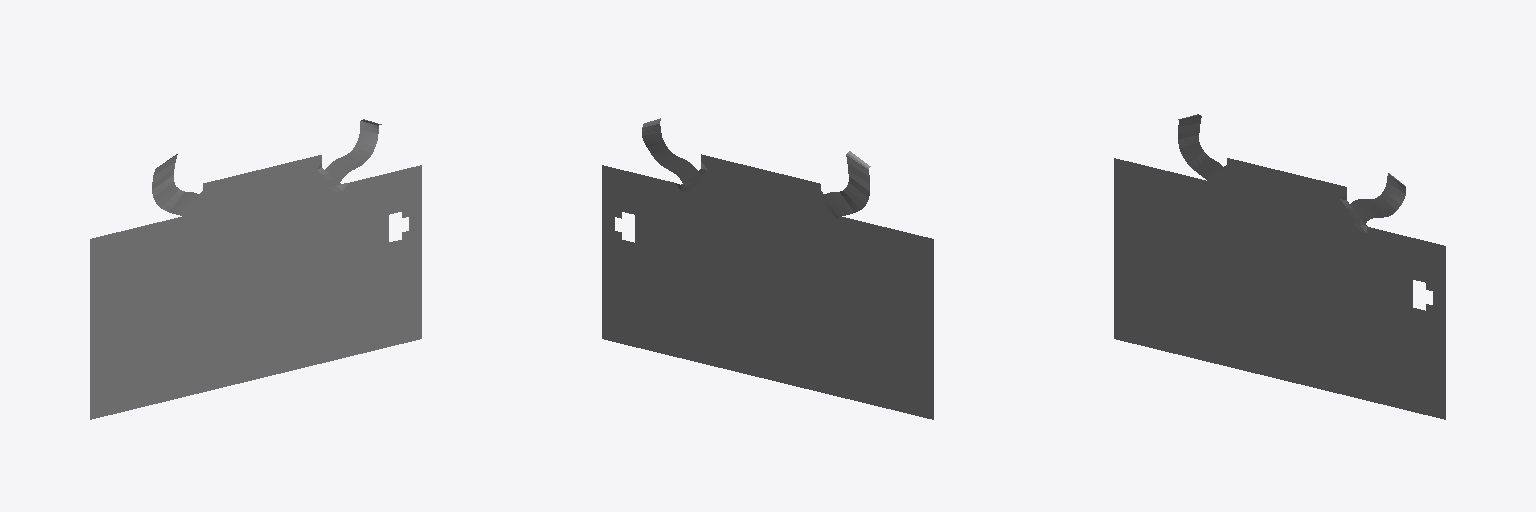
File: Water000.obj
The picture shows the model from 3 angles: view 1: azimuth 30°, elevation 25°; view 2: azimuth 150°, elevation 25°; view 3: azimuth 330°, elevation 25°; orthographic projection.
Visible parts, largest first — view 1: WaterSurface__Water00, WaterRoot00__Water01, WaterRoot01__Water02; view 2: WaterSurface__Water00, WaterRoot00__Water01, WaterRoot01__Water02; view 3: WaterSurface__Water00, WaterRoot00__Water01, WaterRoot01__Water02.
Part boxes in pixels (bbox=[...]): WaterSurface__Water00: bbox=[90, 155, 421, 419]; WaterRoot00__Water01: bbox=[152, 154, 203, 215]; WaterRoot01__Water02: bbox=[325, 119, 381, 191]; WaterSurface__Water00: bbox=[602, 154, 933, 419]; WaterRoot00__Water01: bbox=[819, 151, 870, 218]; WaterRoot01__Water02: bbox=[642, 118, 708, 190]; WaterSurface__Water00: bbox=[1114, 158, 1445, 419]; WaterRoot00__Water01: bbox=[1178, 114, 1228, 179]; WaterRoot01__Water02: bbox=[1350, 173, 1405, 225].
Bounding box in the file's own units: 10000 × 7097 × 177.